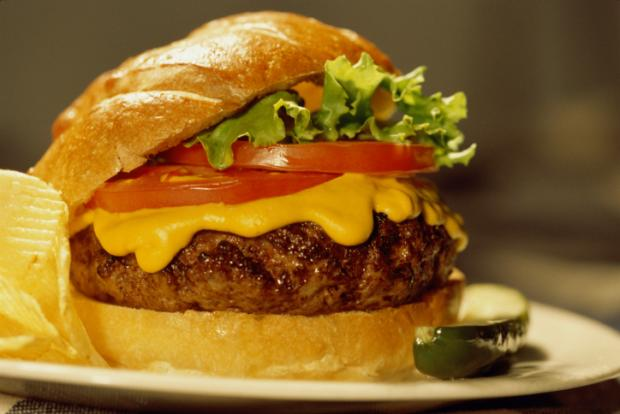hamburger: (30, 23, 515, 395)
